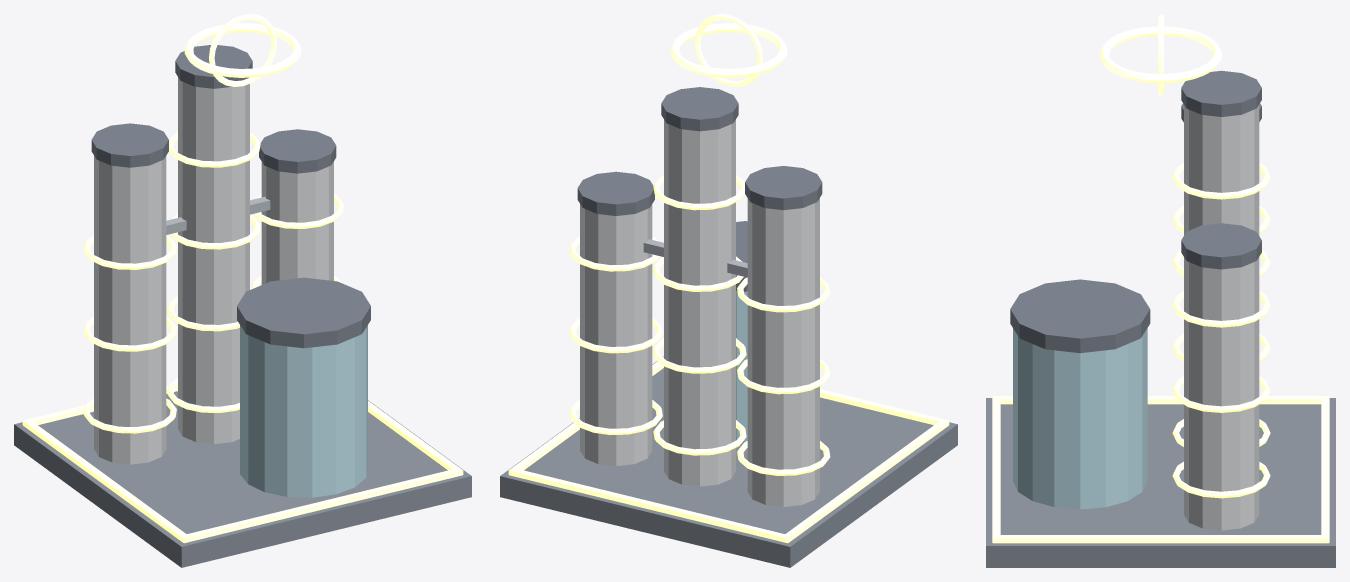
Rendered from polymer_works.glb.
3 renders of one model, left to right at view 1: azimuth 30°, elevation 25°; view 2: azimuth 150°, elevation 25°; view 3: azimuth 270°, elevation 25°, orthographic. The views are drawn at different scales.
Visible parts, largest first — view 1: Cube, Cylinder.002, Cylinder, Cylinder.006, Cylinder.007, Cylinder.004, Cylinder.001, Cylinder.005, Cube.001, Torus.010, Cylinder.003, Cube.002 (+11 smaller); view 2: Cube, Cylinder.002, Cylinder, Cylinder.004, Cylinder.003, Cylinder.001, Cylinder.005, Cube.003, Torus.010, Cube.002, Cylinder.006, Torus.011 (+13 smaller); view 3: Cube, Cylinder.006, Cylinder.004, Cylinder.007, Cylinder.002, Cylinder.005, Cylinder.003, Cube.004, Torus.010, Cube.001, Cube.003, Cube.002 (+4 smaller).
Boxes of the visible parts, box(x1,y1,x2,y2) form: Cube: box(14, 391, 471, 567); Cylinder.002: box(178, 77, 249, 444); Cylinder: box(94, 156, 166, 464); Cylinder.006: box(240, 325, 367, 497); Cylinder.007: box(237, 277, 370, 348); Cylinder.004: box(261, 161, 333, 284); Cylinder.001: box(91, 123, 168, 167); Cylinder.005: box(259, 129, 336, 173); Cube.001: box(181, 468, 462, 543); Torus.010: box(184, 23, 301, 77); Cylinder.003: box(175, 45, 252, 88); Cube.002: box(22, 419, 186, 542); Cube: box(500, 356, 957, 567); Cylinder.002: box(664, 120, 735, 486); Cylinder: box(747, 198, 819, 506); Cylinder.004: box(580, 204, 652, 466); Cylinder.003: box(661, 87, 738, 131); Cylinder.001: box(745, 166, 822, 210); Cylinder.005: box(577, 171, 654, 215); Cube.003: box(509, 468, 790, 543); Torus.010: box(670, 23, 787, 77); Cube.002: box(785, 421, 949, 542); Cylinder.006: box(736, 290, 747, 440); Torus.011: box(695, 14, 762, 86); Cube: box(986, 398, 1335, 567); Cylinder.006: box(1013, 328, 1147, 509); Cylinder.004: box(1184, 257, 1259, 530); Cylinder.007: box(1010, 279, 1150, 353); Cylinder.002: box(1184, 104, 1259, 235); Cylinder.005: box(1181, 223, 1261, 269); Cylinder.003: box(1181, 70, 1261, 116); Cube.004: box(993, 535, 1328, 543); Torus.010: box(1100, 26, 1221, 83); Cube.001: box(992, 396, 1000, 542); Cube.003: box(1321, 396, 1329, 542); Cube.002: box(993, 396, 1328, 404).
Bounding box in the file's own units: 2.6 × 3.9 × 2.6.
